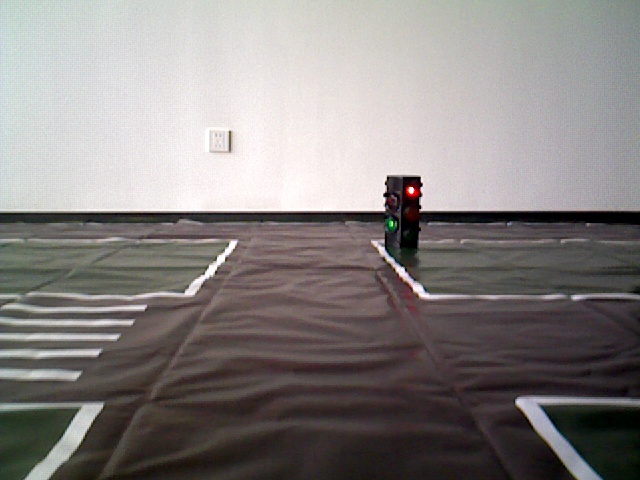red: (385, 175, 419, 263)
